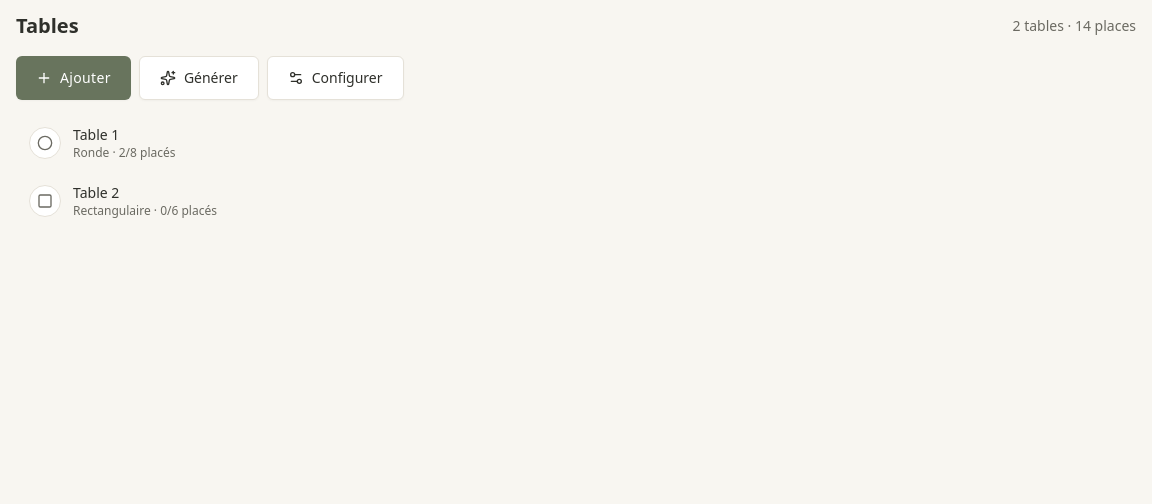
Test case: TablesPanel › bulk apply updates all tables and becomes the default for new tables
Click the button "Configurer" at (335, 78), box [267, 56, 404, 100]
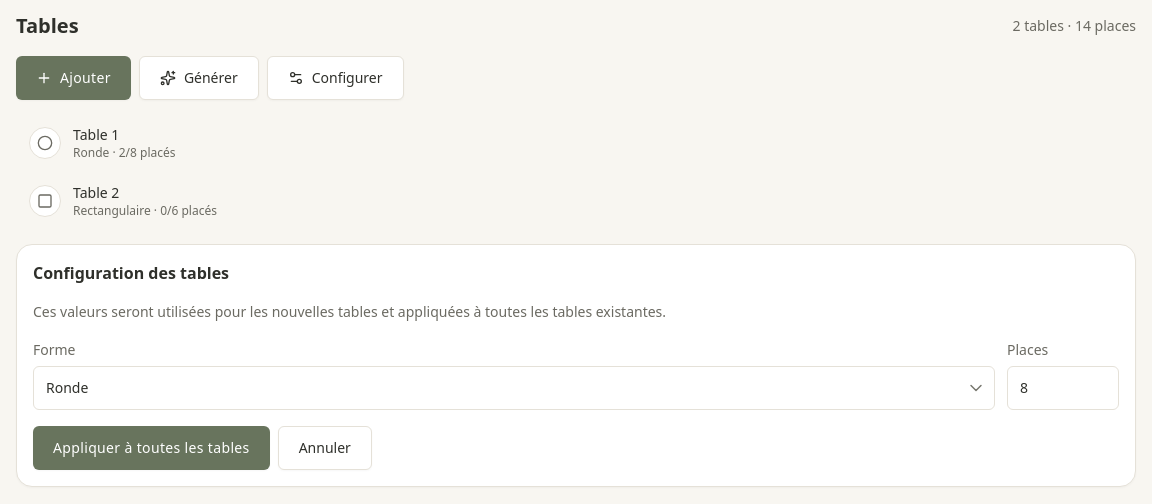
Replace the text in the number field labelled "Places" with "10" at (1063, 388), box [1007, 366, 1119, 410]
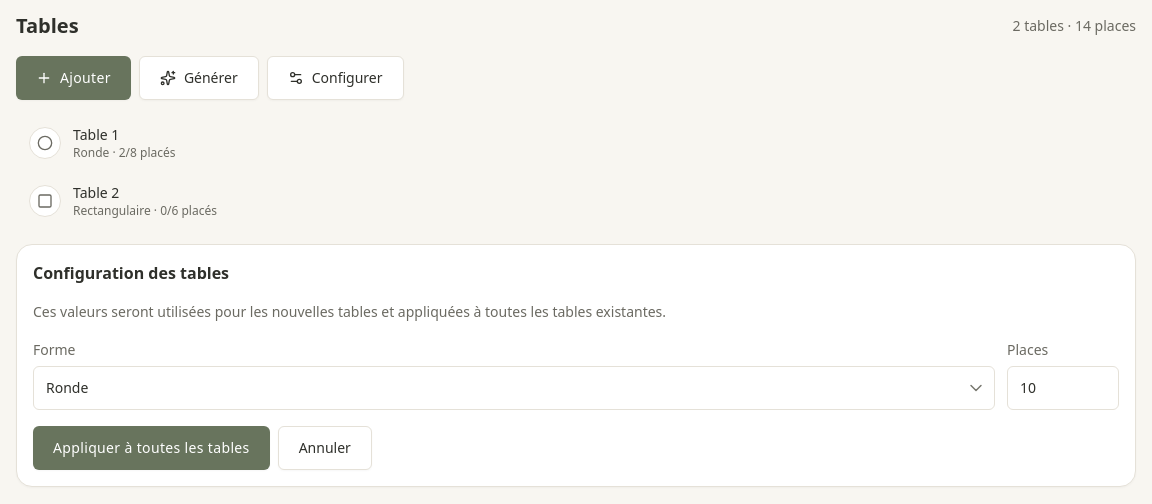
Submit the form, box [33, 261, 1119, 470]
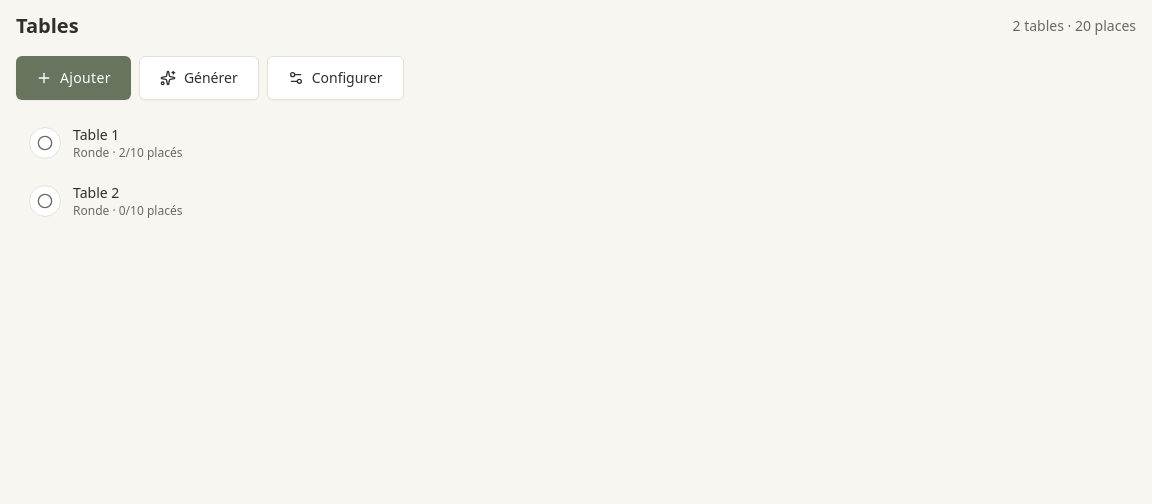
Expected: the button "Table 1 Ronde · 2/10 placés" is shown, [17, 117, 1087, 169]
Expected: the text with test id "table-count" reads "2 tables · 20 places", [1012, 16, 1136, 35]
Click the button "Ajouter" at (73, 78), box [16, 56, 131, 100]
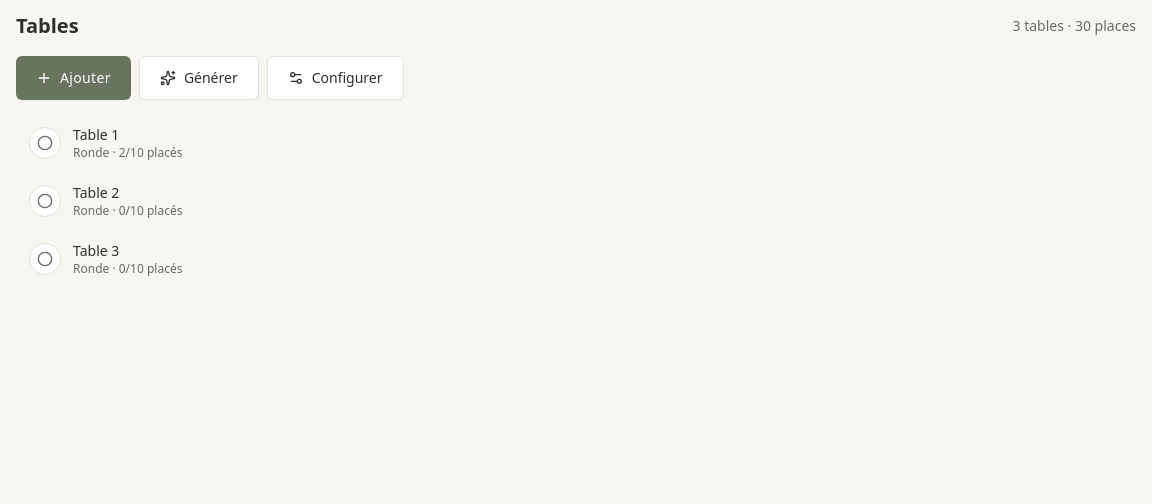
Expected: the button "Table 3 Ronde · 0/10 placés" is shown, [17, 233, 1087, 285]
